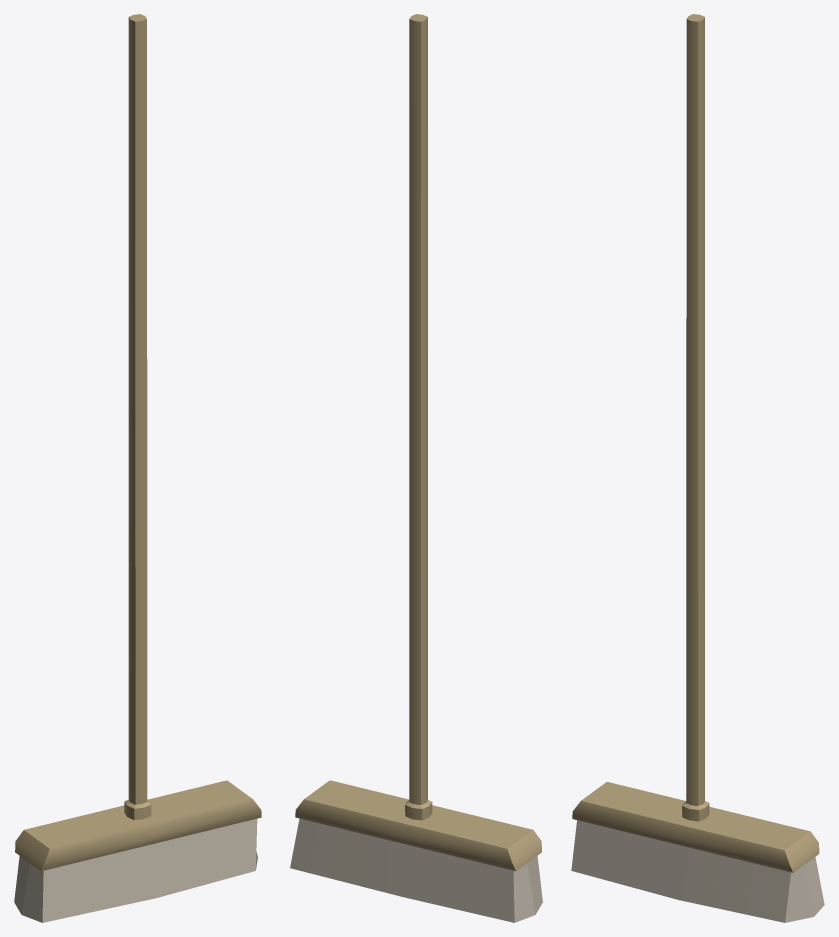
File: SM_Broom.fbx
3 views of the same model, side by side, from view 1: azimuth 30°, elevation 25°; view 2: azimuth 150°, elevation 25°; view 3: azimuth 330°, elevation 25° (orthographic).
Visible parts, largest first — view 1: SM_Broom; view 2: SM_Broom; view 3: SM_Broom.
Part boxes in pixels (<box>): SM_Broom: <box>14,14,261,922</box>; SM_Broom: <box>290,14,542,922</box>; SM_Broom: <box>571,14,824,922</box>.
Size of the model in its own units: 40.25 by 142 by 9.71.
